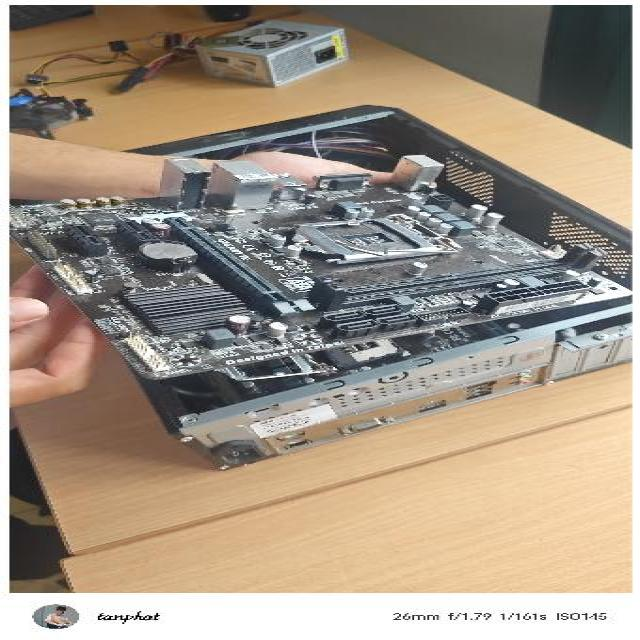CPU_Fan: (6, 69, 116, 145)
Mainboard: (11, 146, 638, 380)
PSU: (180, 15, 376, 89)
